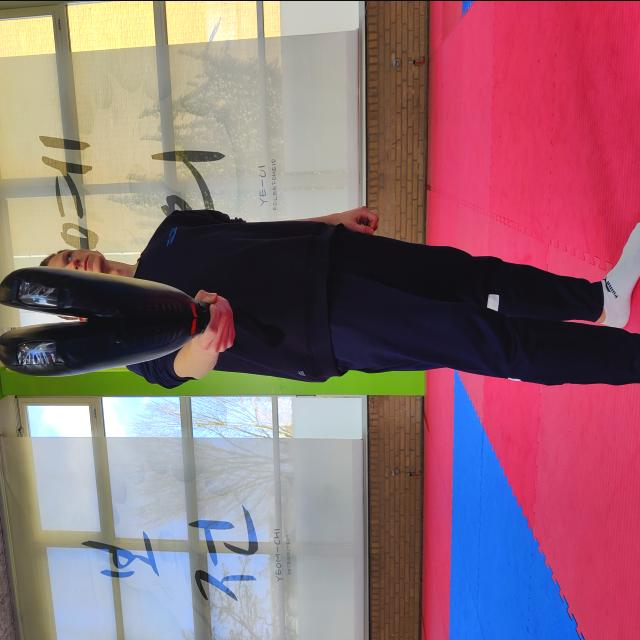paddle: (0, 264, 211, 378)
